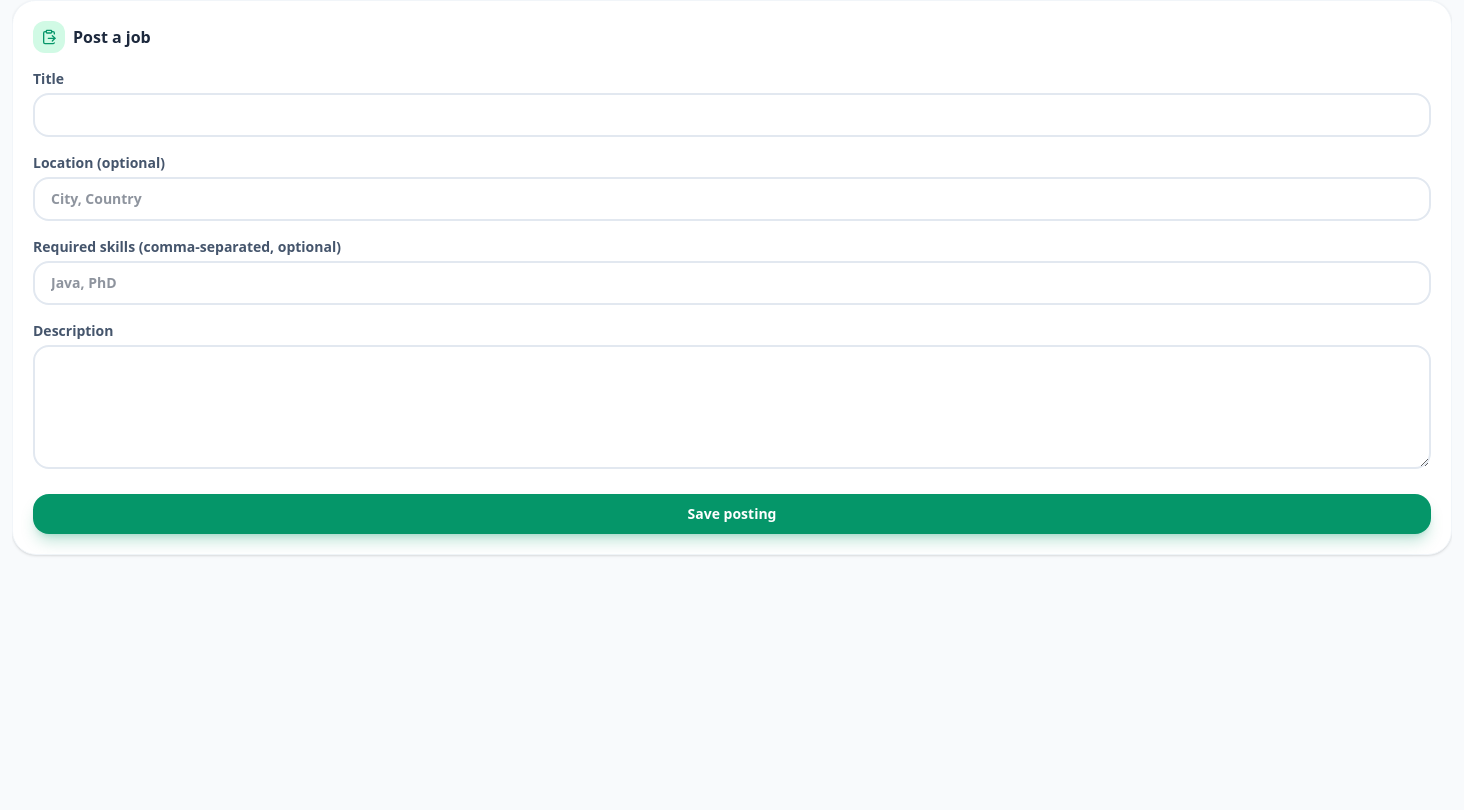
PastePostingForm › shows an error message when the save fails
Type "Backend Engineer" into the field labelled "Title" at (732, 115), box [33,93,1431,137]
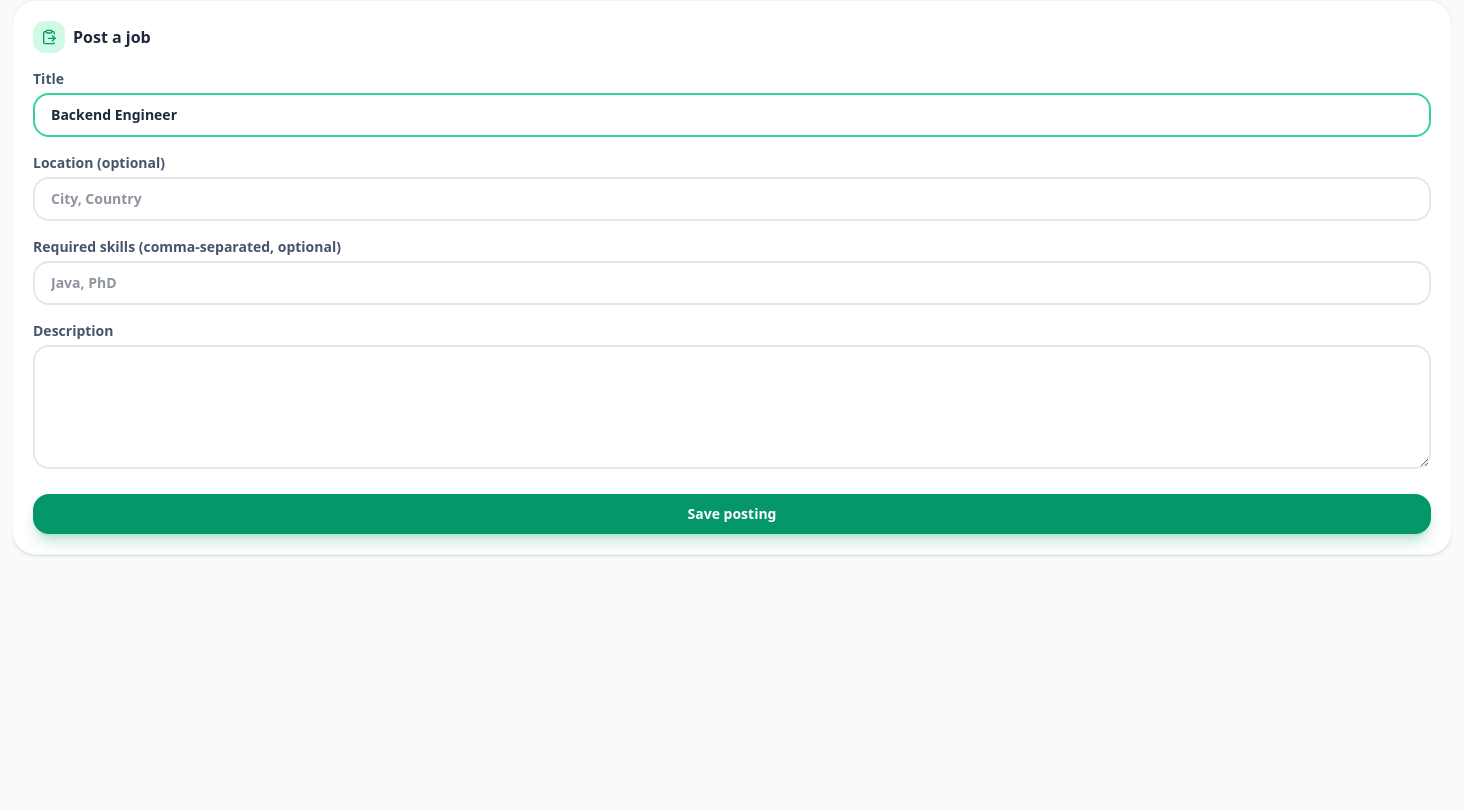
Type "Build APIs." into the text box labelled "Description" at (732, 407), box [33,345,1431,469]
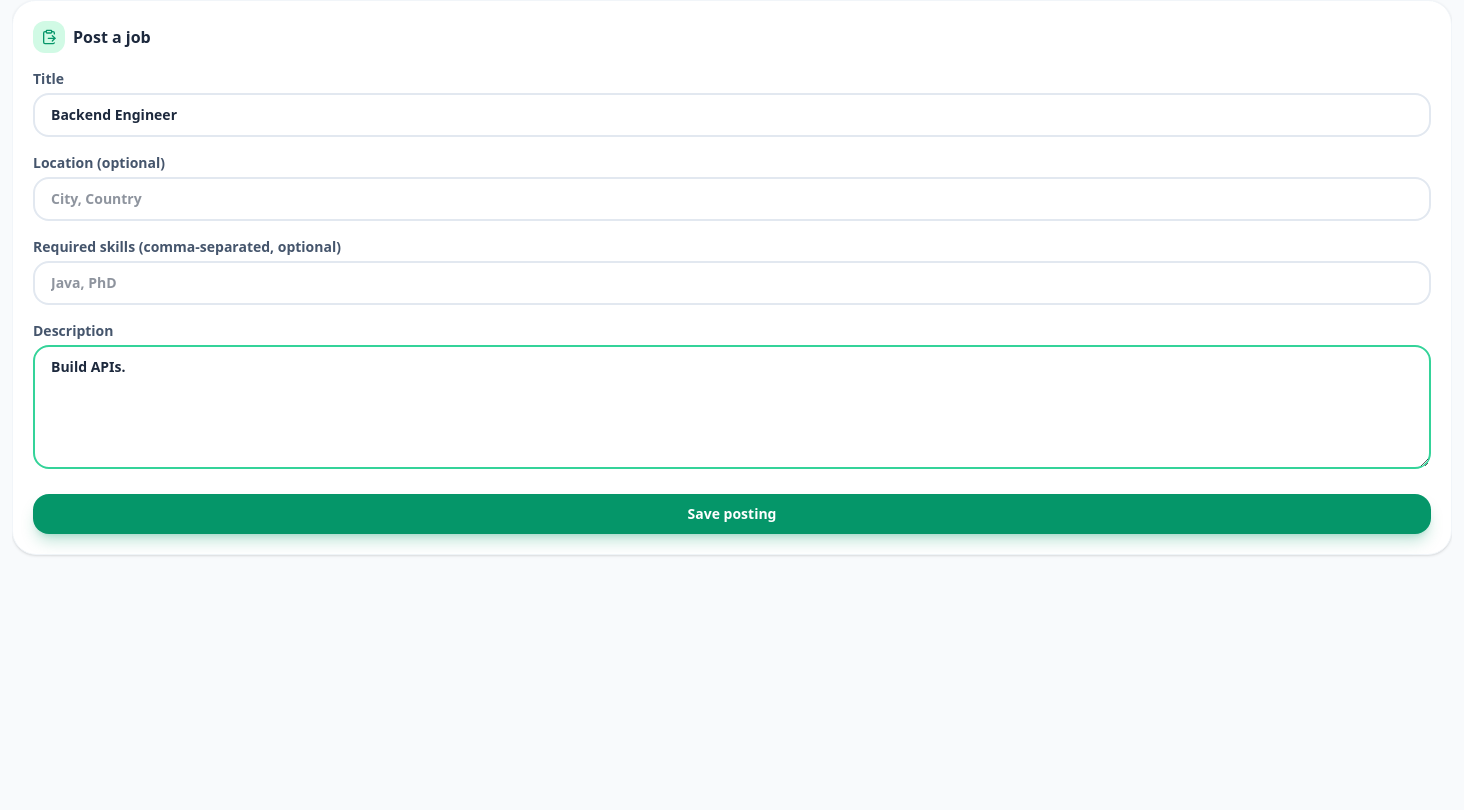
Click the button "Save posting" at (732, 514), box [33,494,1431,534]
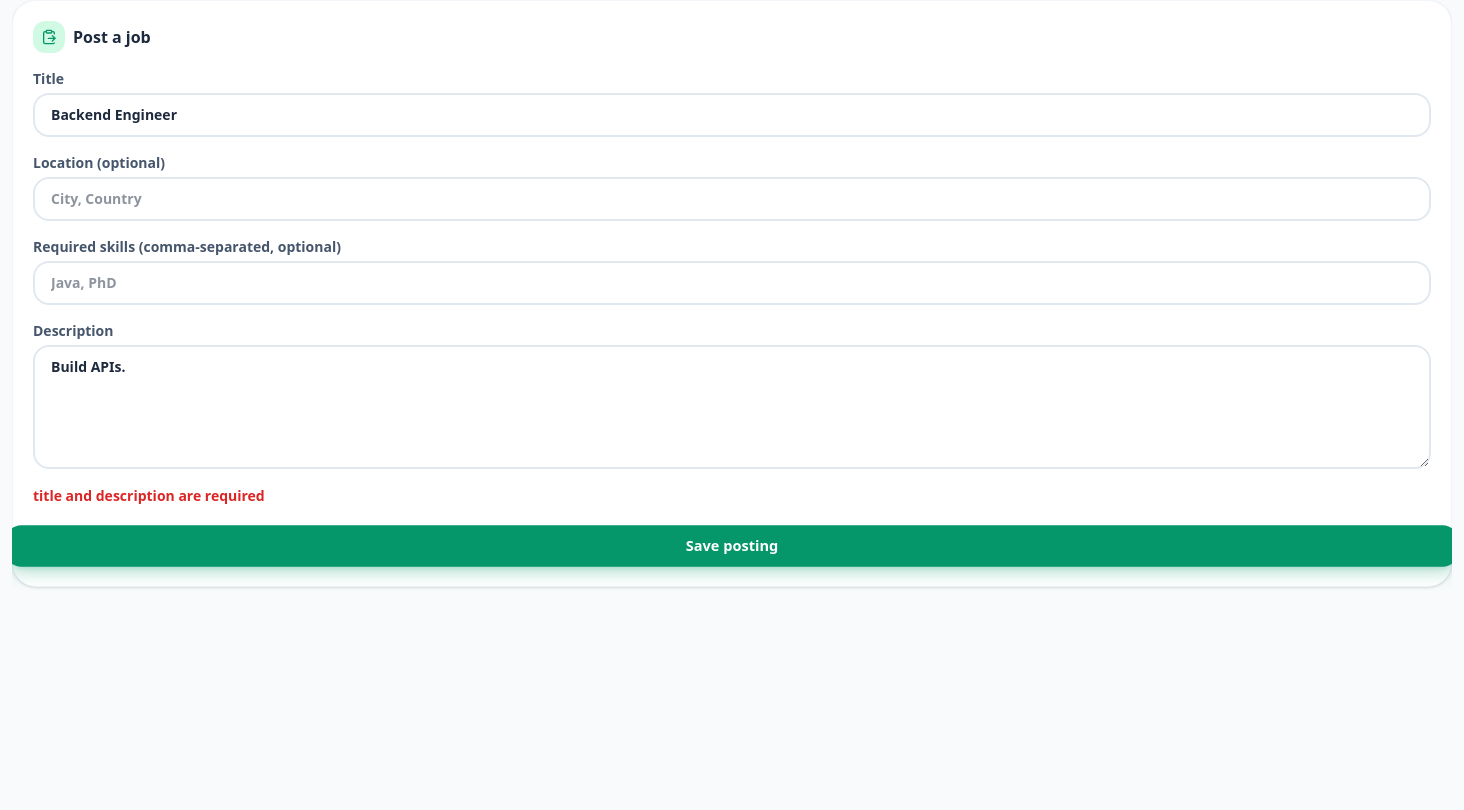
Expected: the message shows "required", [33,486,265,505]
